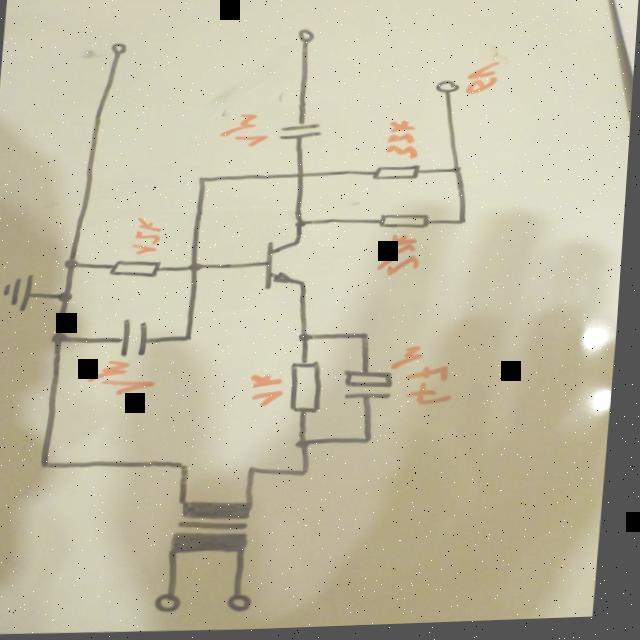capacitor: (342, 365, 404, 414), (109, 316, 165, 361), (276, 116, 329, 152)
crossover: (291, 169, 314, 186)
ground: (0, 272, 45, 317)
junction: (186, 260, 213, 279), (295, 331, 322, 348), (296, 438, 323, 455), (51, 331, 76, 349), (65, 255, 85, 276), (178, 457, 201, 475), (58, 289, 81, 306), (249, 463, 270, 481), (450, 166, 471, 182), (293, 220, 314, 236), (42, 459, 63, 475), (300, 469, 321, 484), (195, 175, 215, 188), (184, 332, 201, 347), (364, 437, 383, 450), (457, 218, 473, 233), (360, 333, 378, 346)
resistor: (287, 357, 336, 421), (377, 210, 439, 237), (108, 256, 169, 283), (370, 165, 429, 188)
terminal: (158, 591, 194, 619), (231, 592, 263, 618), (432, 79, 465, 103), (293, 28, 319, 49), (107, 40, 132, 59)
text: (393, 345, 466, 413), (90, 358, 165, 401), (375, 233, 430, 284), (220, 111, 277, 152), (383, 118, 428, 168), (247, 370, 293, 413), (464, 62, 505, 102), (131, 217, 170, 259)
transformer: (167, 492, 267, 565)
transistor: (257, 237, 321, 297)
